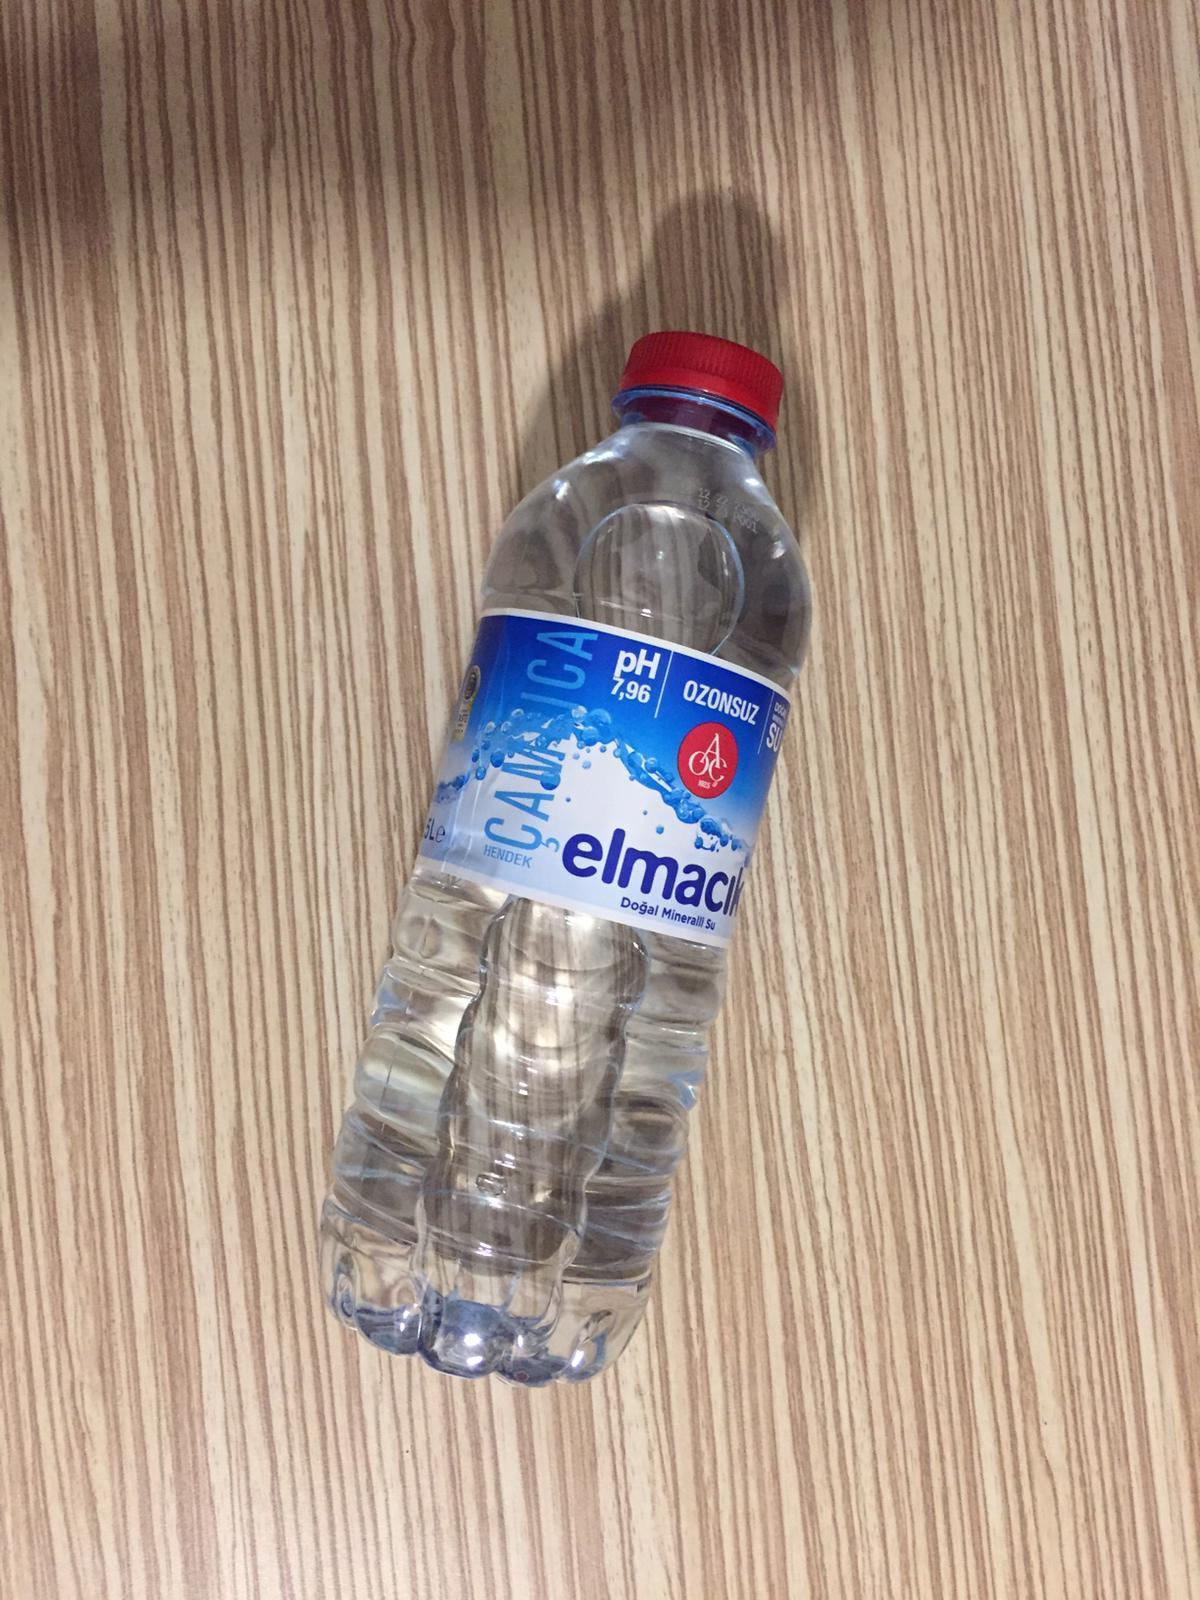bottle: (318, 324, 798, 1382)
